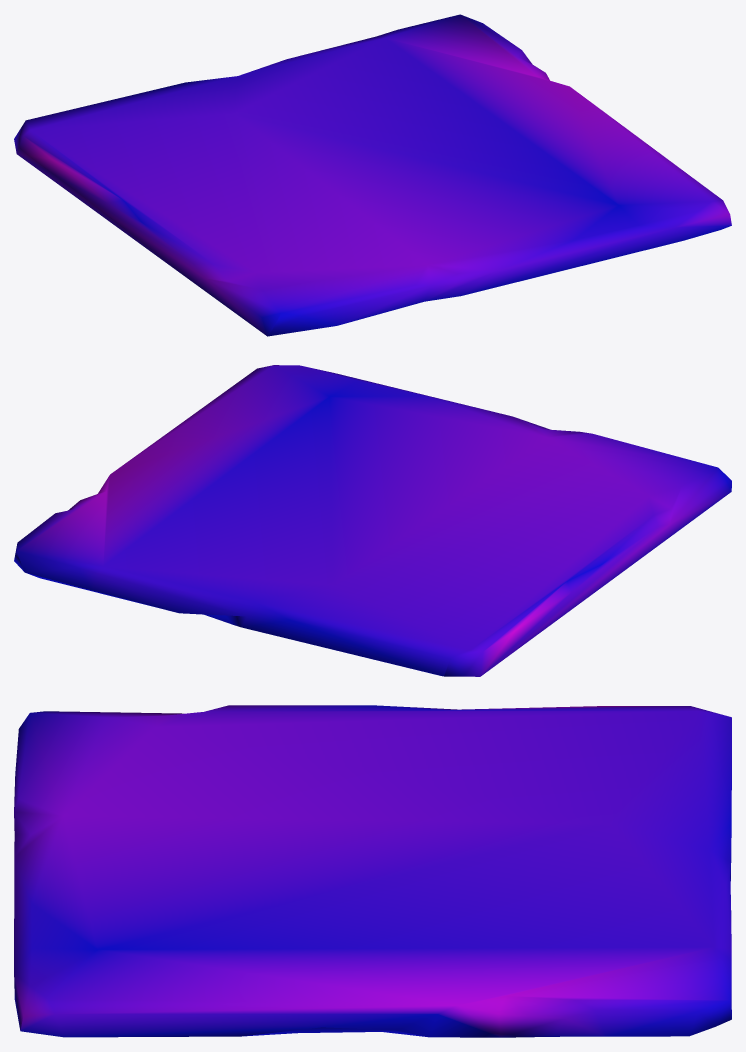
The model's file is SM_Floor_Tile_B.FBX.
The picture shows the model from 3 angles, top to bottom: view 1: azimuth 30°, elevation 25°; view 2: azimuth 150°, elevation 25°; view 3: azimuth 270°, elevation 25°; orthographic projection. The views are drawn at different scales.
Visible parts, largest first — view 1: SM_Floor_Tile_B; view 2: SM_Floor_Tile_B; view 3: SM_Floor_Tile_B.
Boxes of the visible parts, box(x1,y1,x2,y2) form: SM_Floor_Tile_B: box(14, 14, 731, 336); SM_Floor_Tile_B: box(14, 365, 731, 676); SM_Floor_Tile_B: box(14, 705, 731, 1037).
Size of what is drawn, in the model's own units: 200 by 199 by 9.79.
